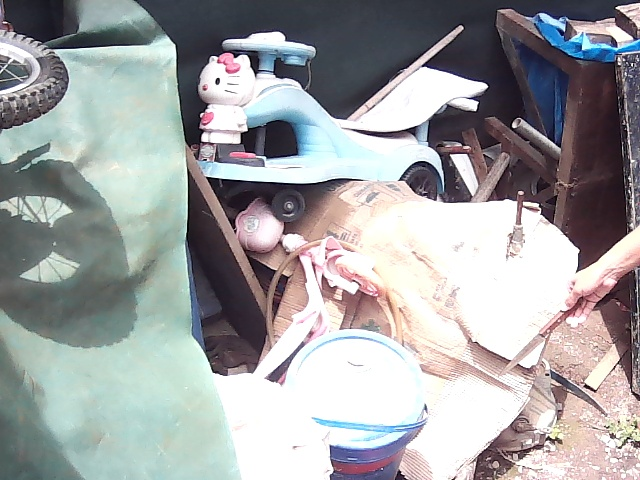cuchillo: (494, 313, 562, 383)
